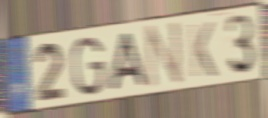2: (33, 40, 67, 106)
3: (224, 12, 256, 77)
A: (107, 30, 150, 93)
G: (70, 34, 107, 98)
K: (187, 20, 218, 80)
N: (146, 19, 183, 90)
